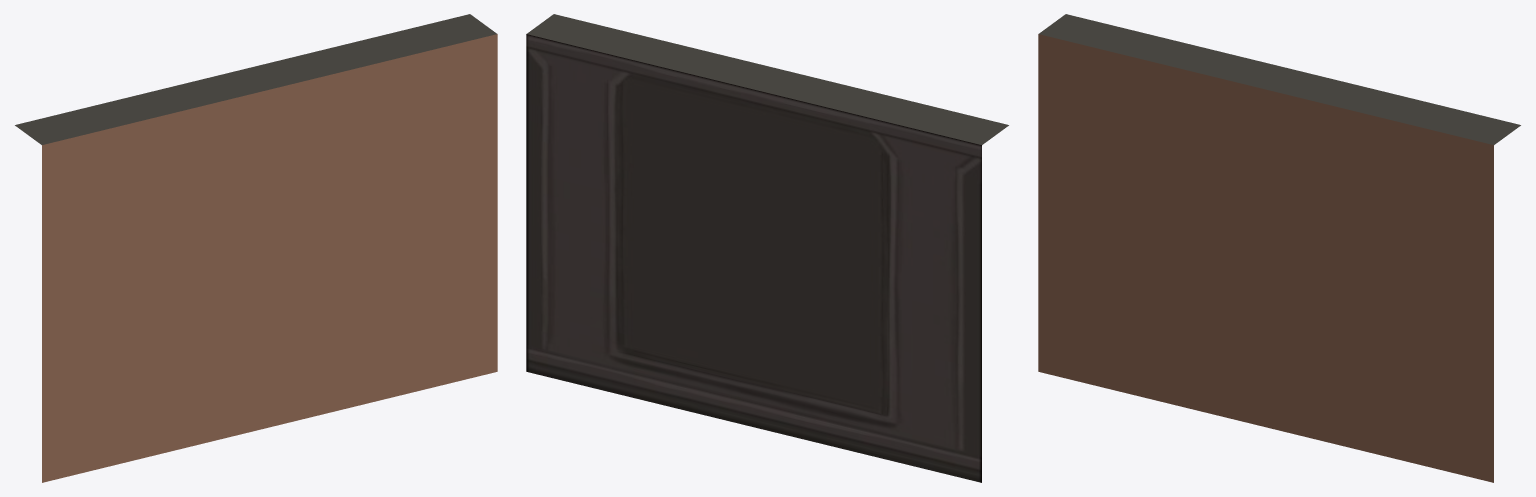
The model's file is env_wall_out.glb.
3 views of the same model, side by side, from view 1: azimuth 30°, elevation 25°; view 2: azimuth 150°, elevation 25°; view 3: azimuth 330°, elevation 25° (orthographic).
Visible parts, largest first — view 1: env_wall_out_mesh; view 2: env_wall_out_mesh; view 3: env_wall_out_mesh.
Part boxes in pixels (box(x1,y1,x2,y2)): env_wall_out_mesh: box(15, 14, 497, 482); env_wall_out_mesh: box(526, 14, 1008, 482); env_wall_out_mesh: box(1038, 14, 1520, 482).
Size of the model in its own units: 0.48 by 0.34 by 0.05.
2 materials, 2 textured.
